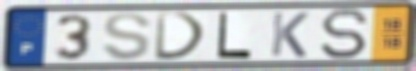3: (53, 13, 94, 62)
D: (153, 10, 210, 63)
K: (268, 11, 311, 60)
L: (215, 10, 254, 61)
S: (318, 7, 372, 61), (100, 11, 154, 63)
